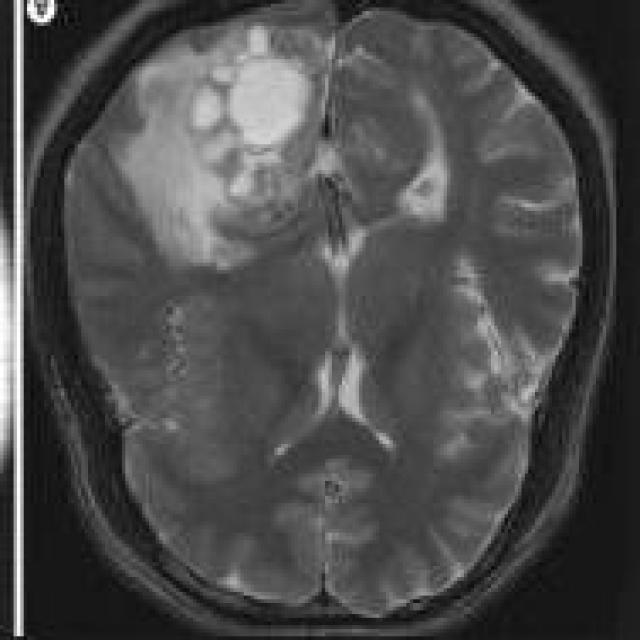brain tumor: (108, 30, 335, 277)
